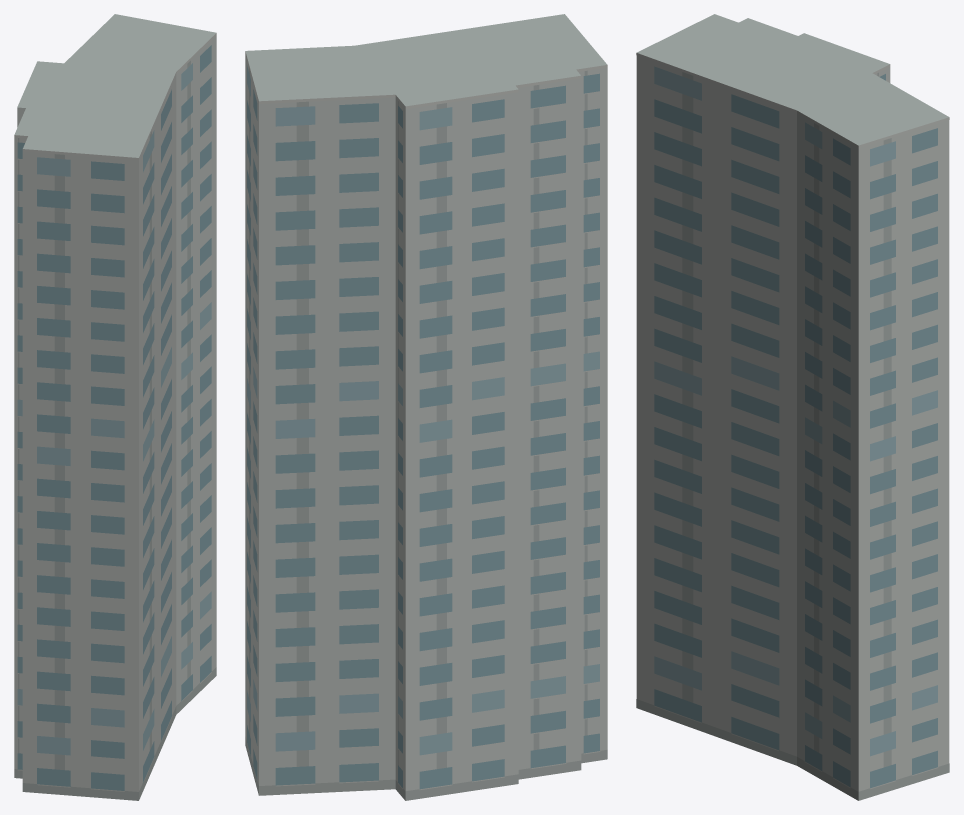
Rendered from residential-413113fe-269e-444b-849e-811ffaae85fa.glb.
3 views of the same model, side by side, from view 1: azimuth 30°, elevation 25°; view 2: azimuth 150°, elevation 25°; view 3: azimuth 270°, elevation 25° (orthographic). The views are drawn at different scales.
Parts seen in each view (by area): view 1: residential-413113fe-269e-444b-849e-811ffaae85fa.tmp; view 2: residential-413113fe-269e-444b-849e-811ffaae85fa.tmp; view 3: residential-413113fe-269e-444b-849e-811ffaae85fa.tmp.
Part boxes in pixels (x1=…): residential-413113fe-269e-444b-849e-811ffaae85fa.tmp: x1=14, y1=14, x2=216, y2=800; residential-413113fe-269e-444b-849e-811ffaae85fa.tmp: x1=245, y1=14, x2=607, y2=800; residential-413113fe-269e-444b-849e-811ffaae85fa.tmp: x1=636, y1=14, x2=949, y2=800.
Size of the model in its own units: 25.85 by 60 by 25.98.
